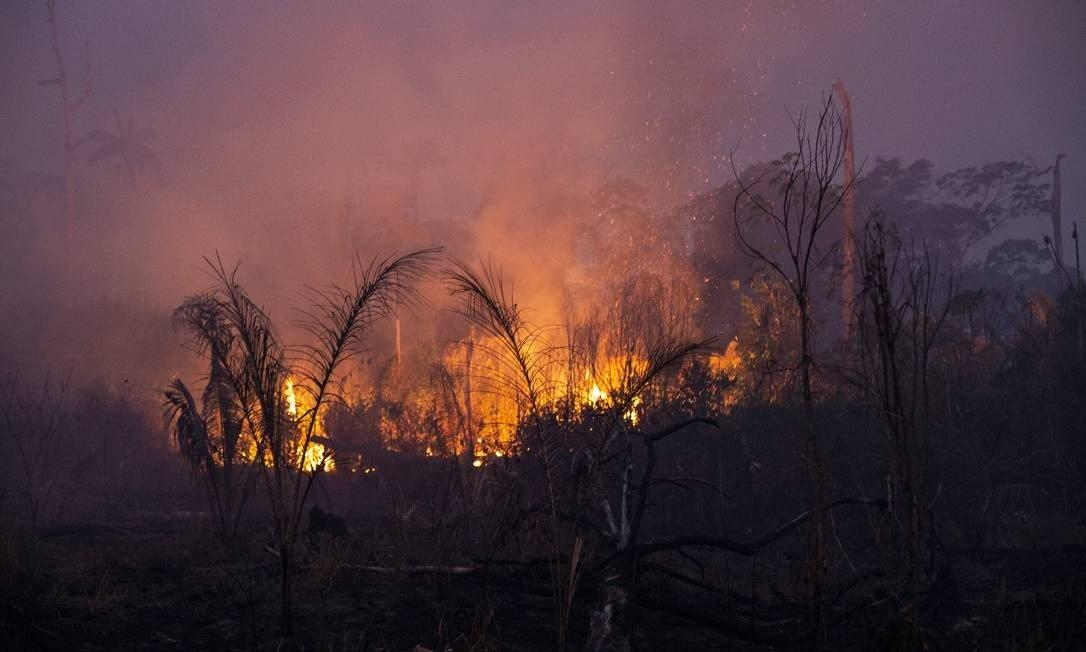fire: (254, 379, 343, 480), (556, 368, 643, 421), (453, 436, 517, 465)
